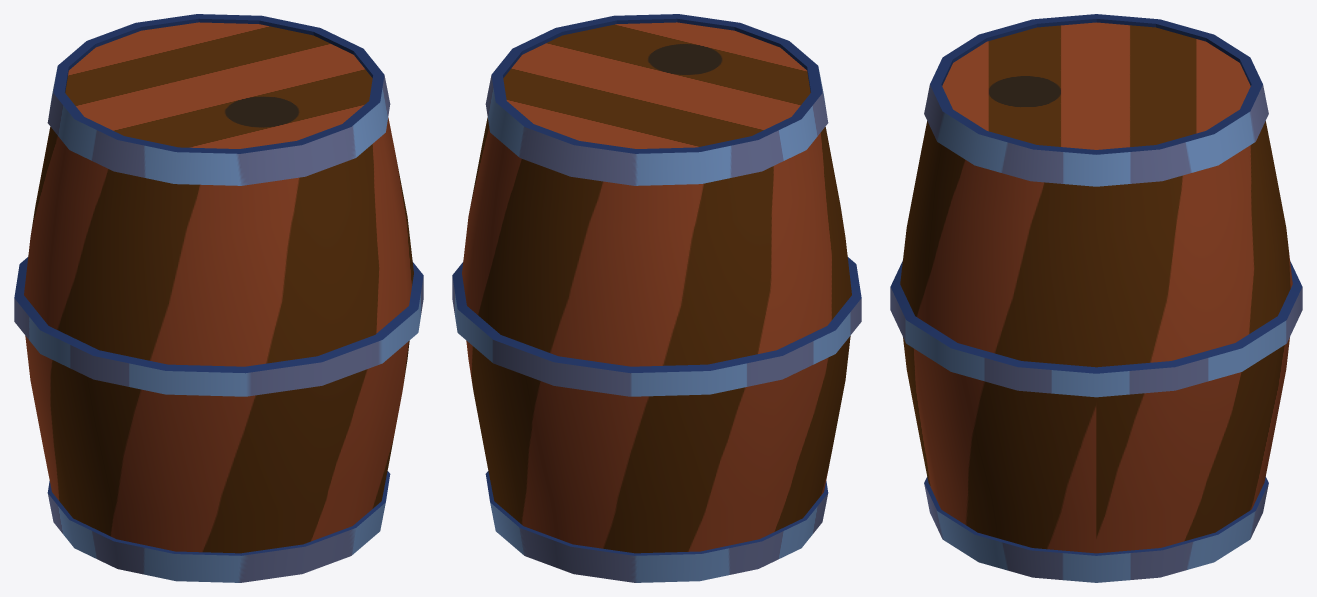
Rendered from PRMC_Bidon.FBX.
3 views of the same model, side by side, from view 1: azimuth 30°, elevation 25°; view 2: azimuth 150°, elevation 25°; view 3: azimuth 270°, elevation 25° (orthographic).
Visible parts, largest first — view 1: PRMC_Bidon; view 2: PRMC_Bidon; view 3: PRMC_Bidon.
Boxes of the visible parts, left/top/right/bottom form: PRMC_Bidon: left=14, top=14, right=423, bottom=582; PRMC_Bidon: left=452, top=14, right=861, bottom=582; PRMC_Bidon: left=890, top=14, right=1302, bottom=582.
Size of the model in its own units: 0.9795 by 1.12 by 0.9795.
